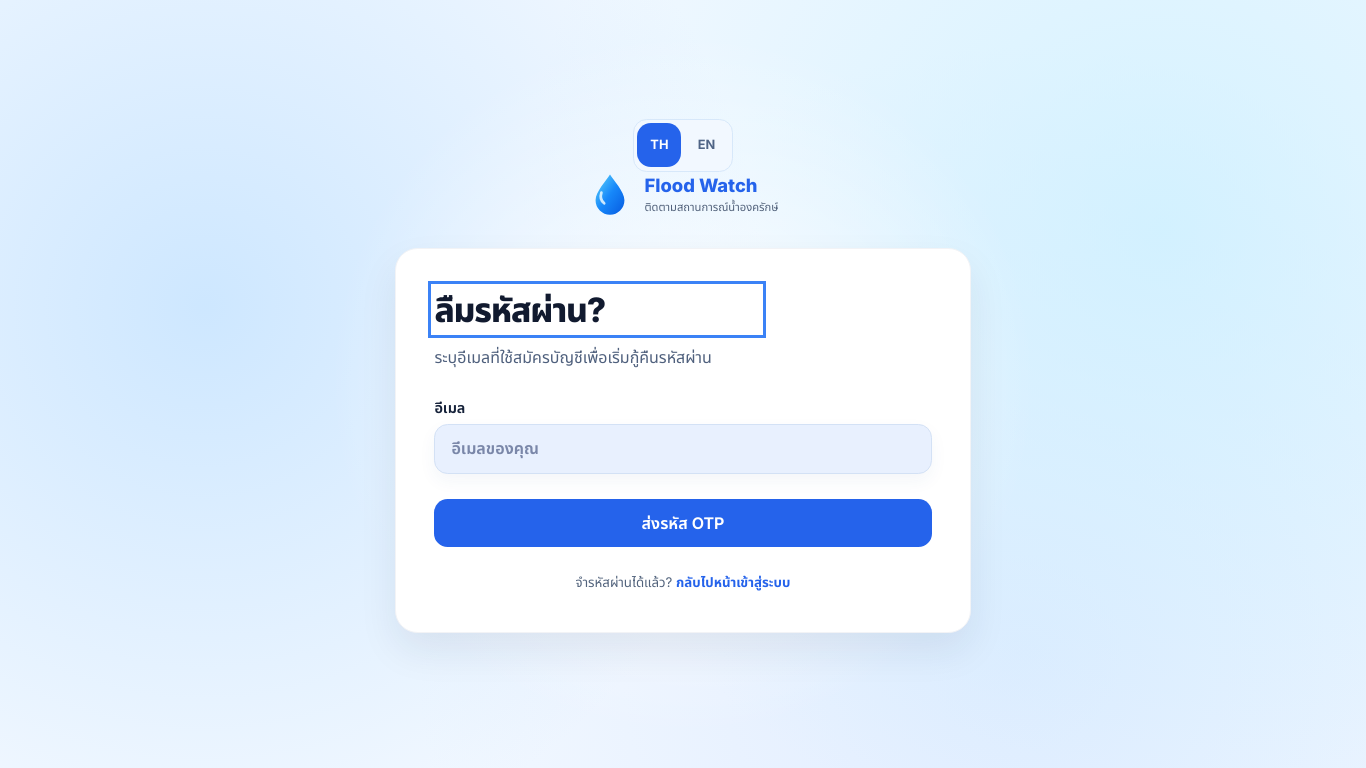
it: ForgotPasswordPage › returns to recovery when the reset token is invalid
This screenshot has width=1366, height=768.
Type "user@example.com" into the field labelled "อีเมล" at (683, 449), box 434,424 -> 932,474
Click the button "ส่งรหัส OTP" at (683, 523), box 434,499 -> 932,547
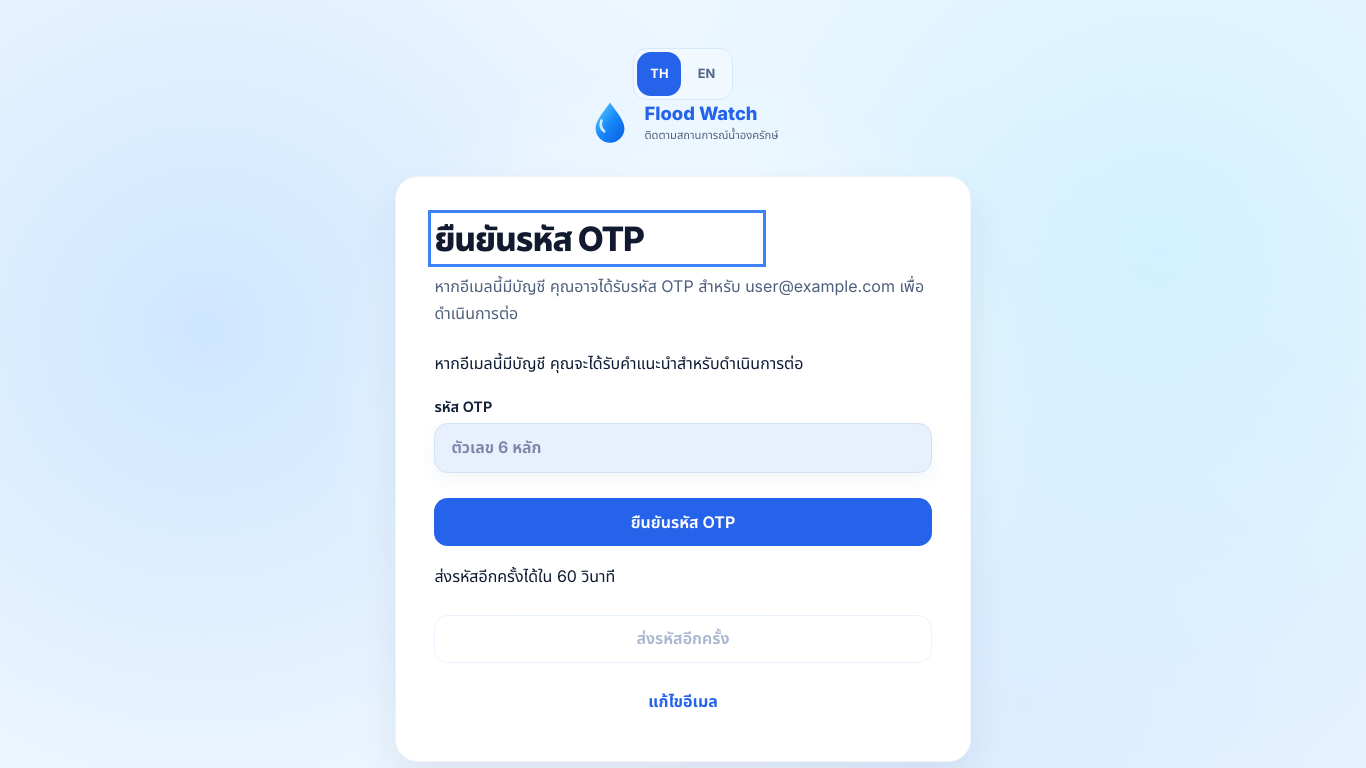
Expected: the heading "ยืนยันรหัส OTP" is shown, 434,218 -> 644,259
Type "123456" into the field labelled "รหัส OTP" at (683, 448), box 434,423 -> 932,473
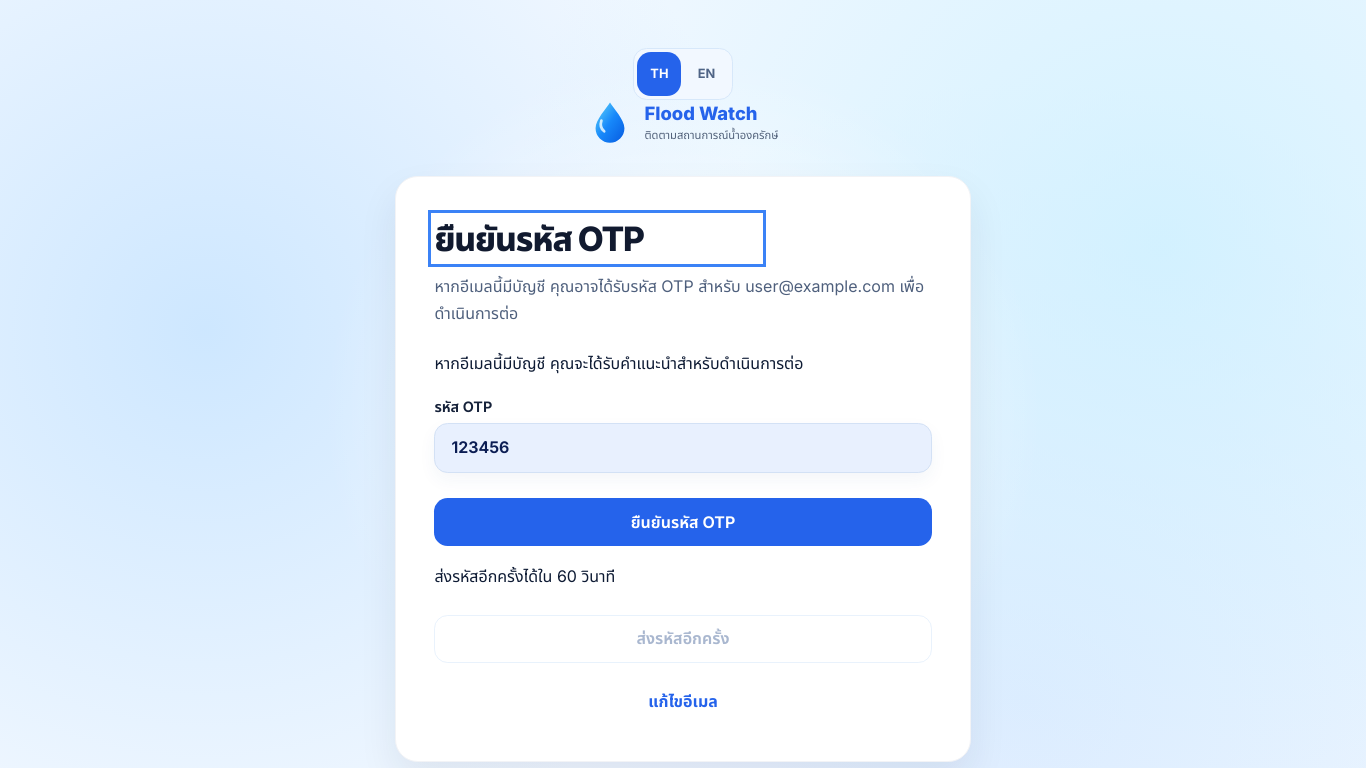
Click the button "ยืนยันรหัส OTP" at (683, 522), box 434,498 -> 932,546
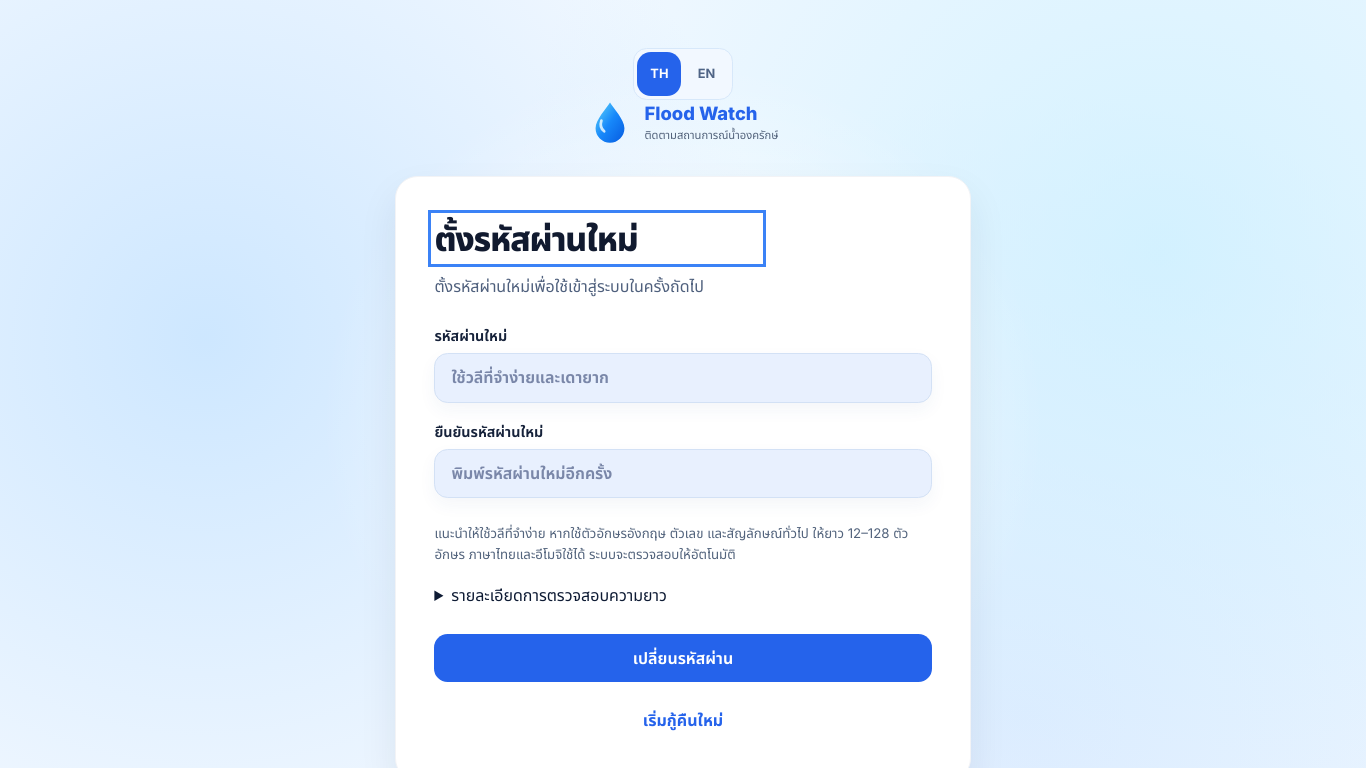
Expected: the heading "ตั้งรหัสผ่านใหม่" is shown, 434,218 -> 638,259
Type "password1234" into the password field labelled "รหัสผ่านใหม่" at (683, 378), box 434,353 -> 932,402
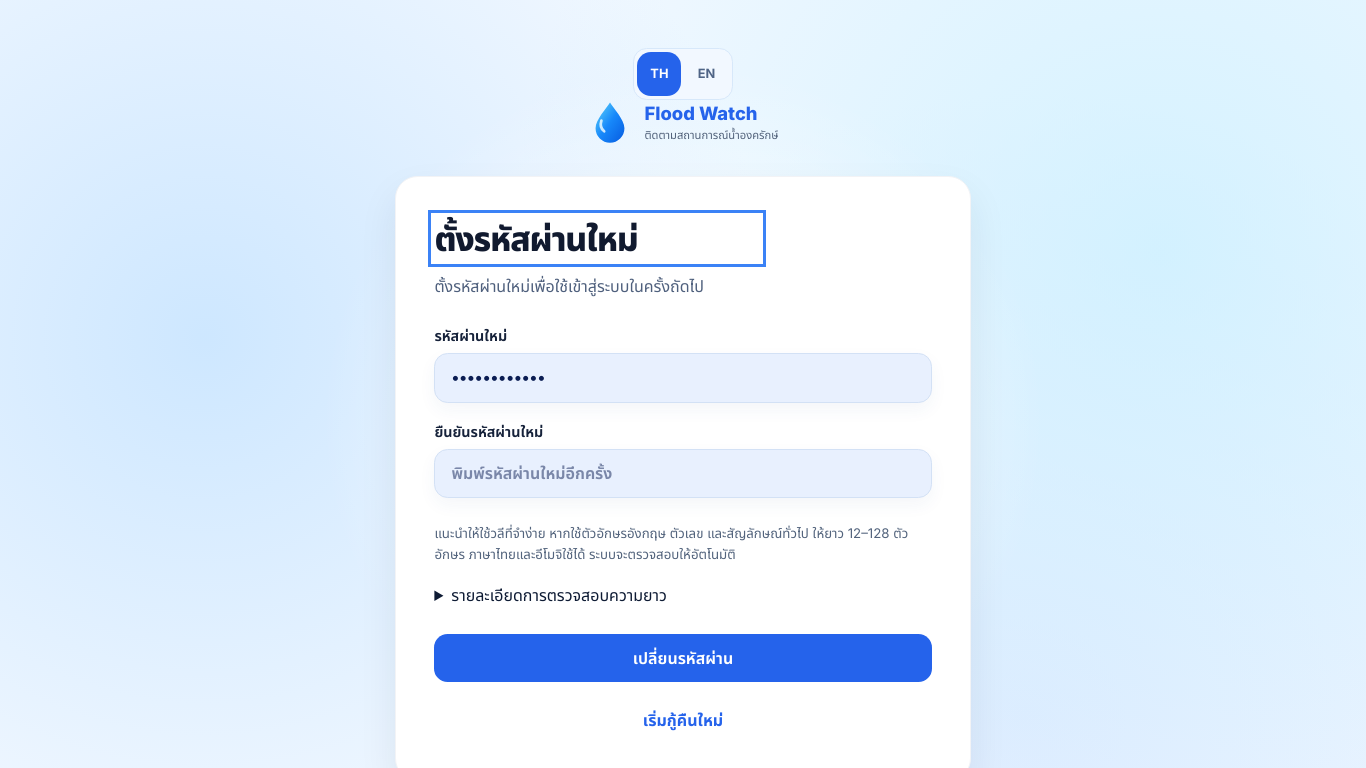
Type "password1234" into the password field labelled "ยืนยันรหัสผ่านใหม่" at (683, 474), box 434,449 -> 932,498
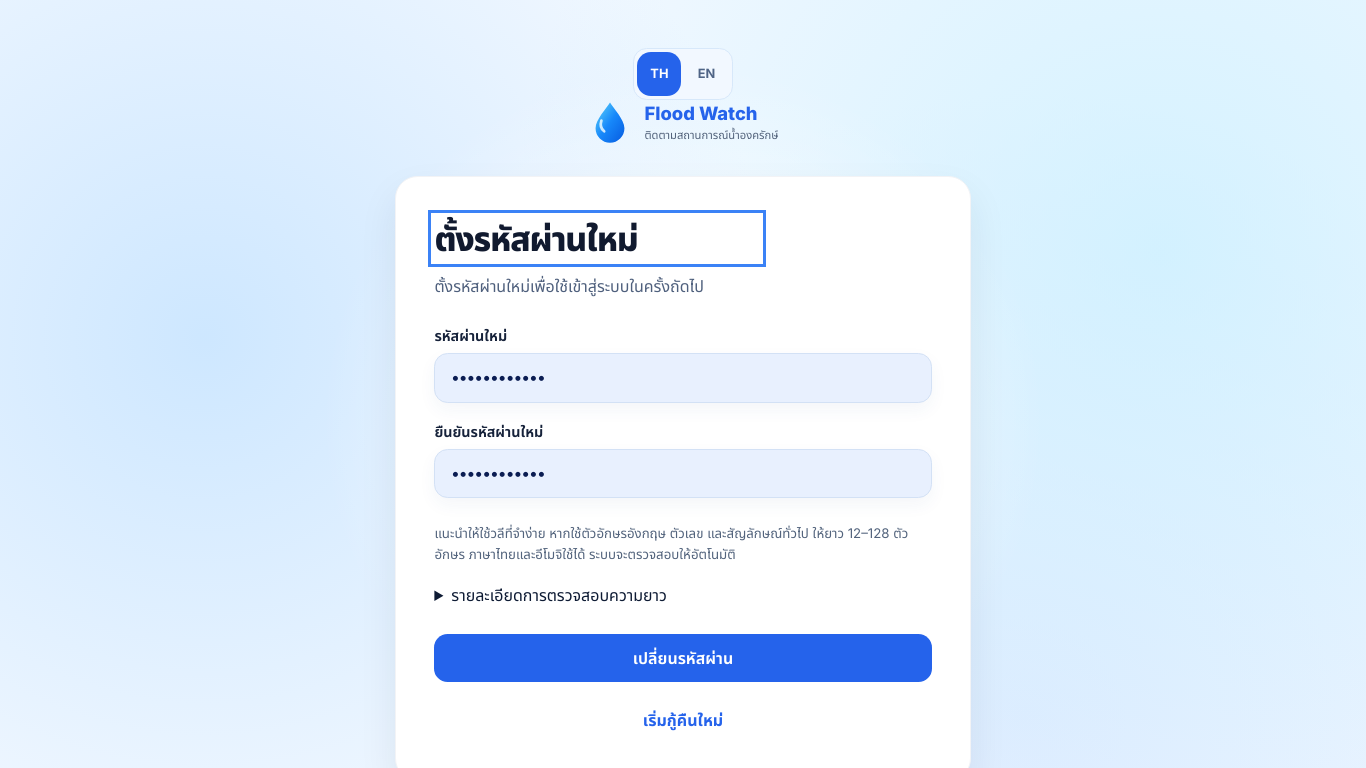
Click the button "เปลี่ยนรหัสผ่าน" at (683, 658), box 434,634 -> 932,682
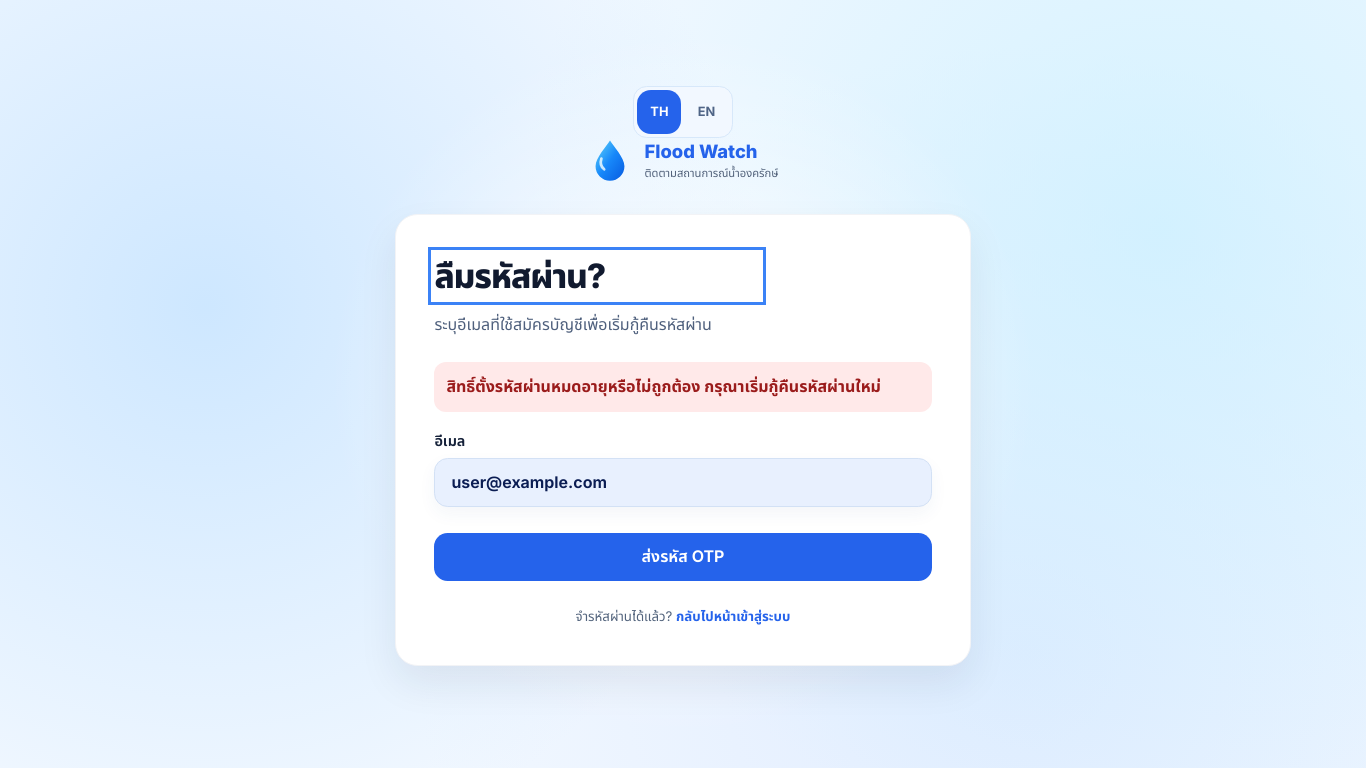
Expected: the heading "ลืมรหัสผ่าน?" is shown, 434,255 -> 605,296
Expected: the message shows "หมดอายุ", 446,376 -> 881,396
